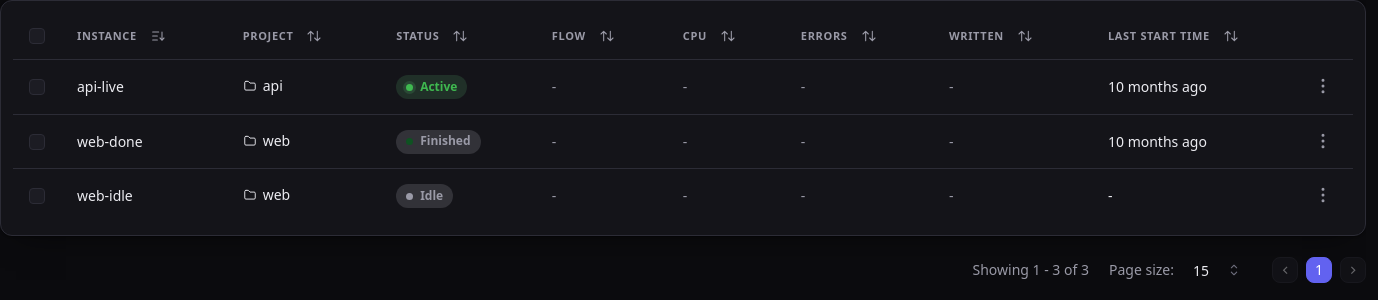
Test: InstancesTable › selects every row at once
The width and height of the screenshot is (1378, 300).
Click the checkbox named "Select all". click: (37, 36)
box: left=29, top=28, right=45, bottom=44
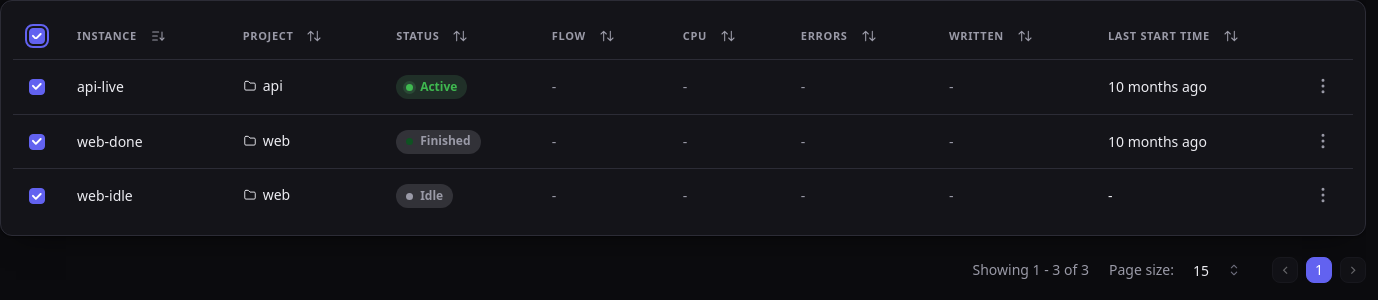
Now the checkbox next to "api-live" is checked, box left=29, top=79, right=45, bottom=95
Now the checkbox next to "web-done" is checked, box left=29, top=134, right=45, bottom=150
Now the checkbox next to "web-idle" is checked, box left=29, top=188, right=45, bottom=204
